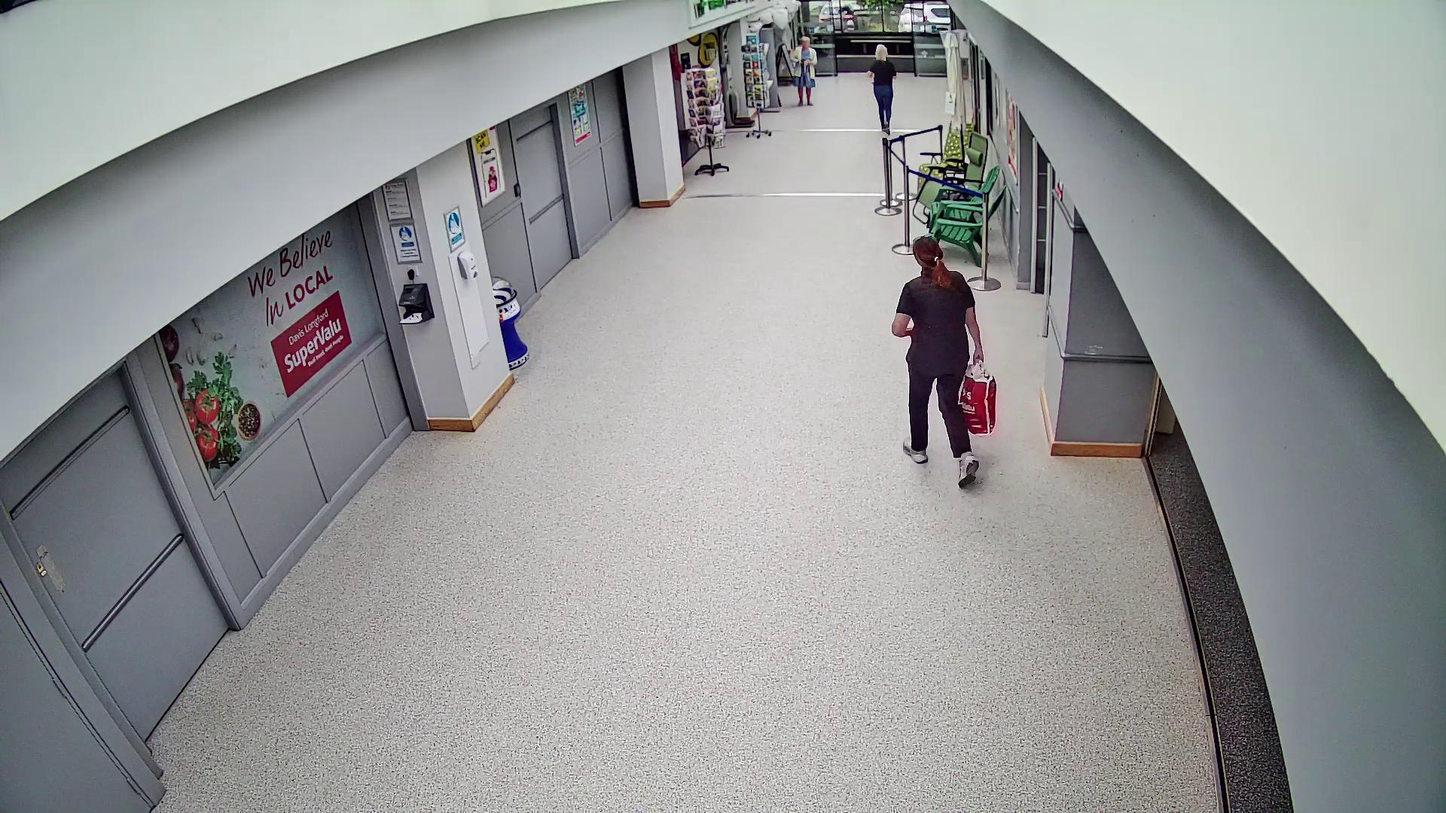filled-shopping-bags: (959, 362, 997, 437)
person: (890, 236, 984, 489)
person-with-filled-shopping-bag-s-: (892, 235, 997, 490)
